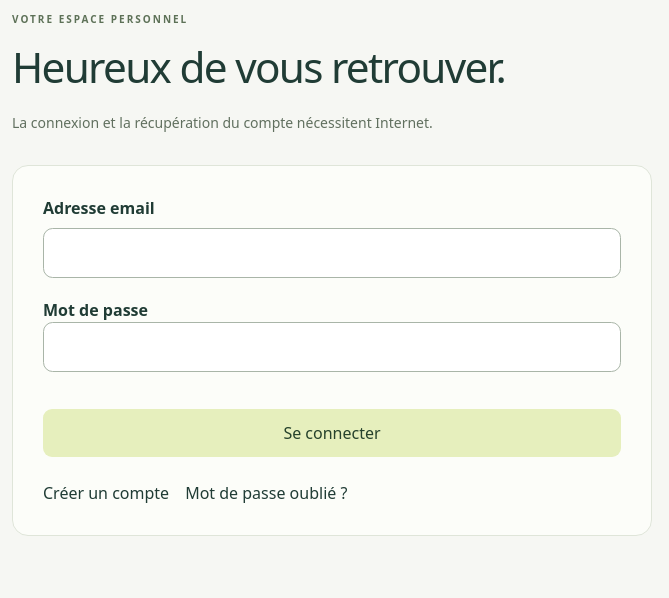
Scenario: authentification › affiche une erreur de connexion sans exposer le détail serveur
Type "test@example.test" into the field labelled "Adresse email" at (332, 253), box x1=43 y1=228 x2=621 y2=278
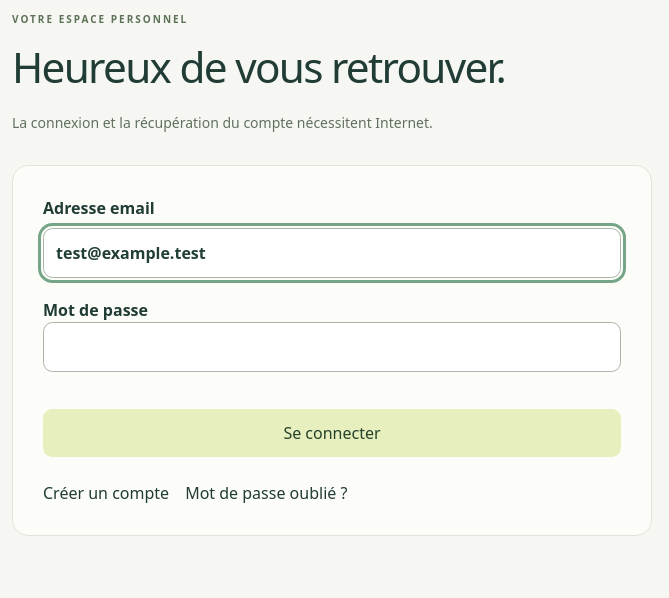
Type "incorrect" into the password field labelled "Mot de passe" at (332, 347), box x1=43 y1=322 x2=621 y2=372
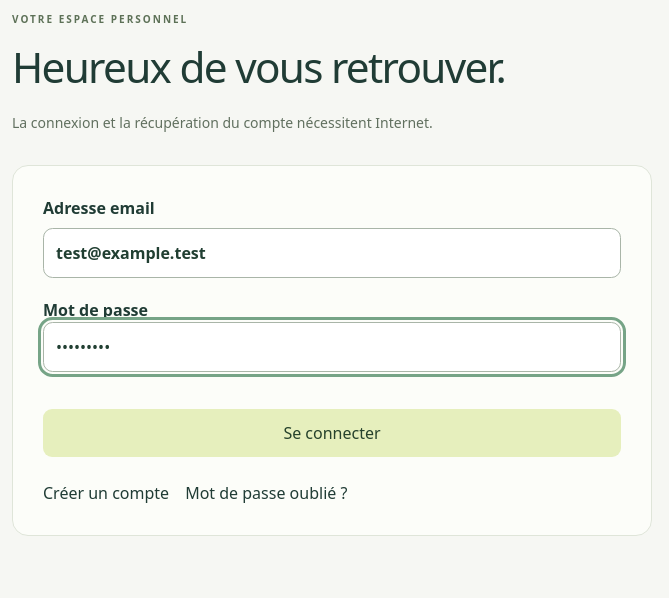
Click the button "Se connecter" at (332, 433), box x1=43 y1=409 x2=621 y2=457
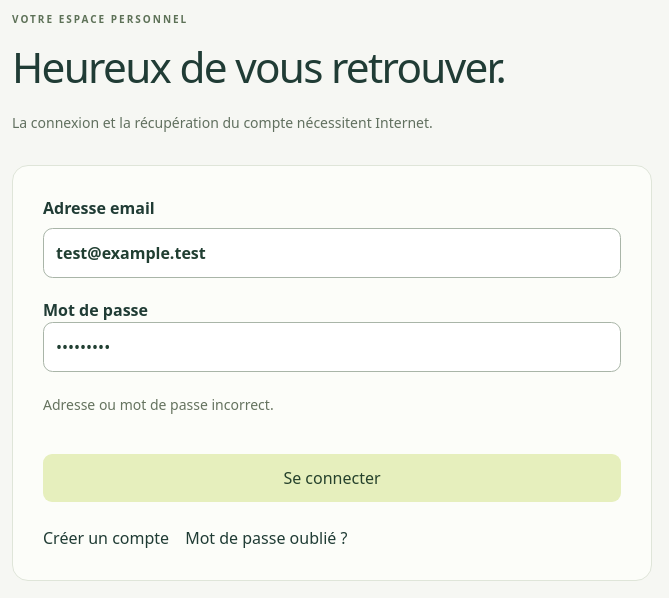
Expected: the message reads "Adresse ou mot de passe incorrect.", x1=43 y1=395 x2=274 y2=414
